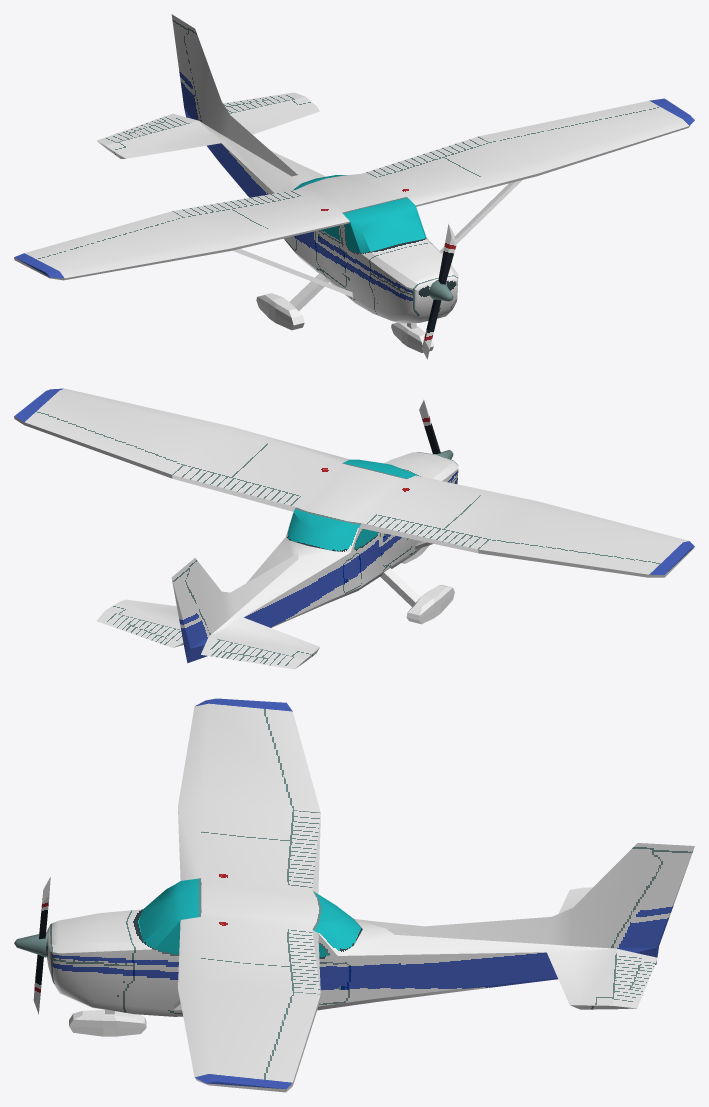
The model's file is cessna172.glb.
3 renders of one model, top to bottom at view 1: azimuth 30°, elevation 25°; view 2: azimuth 150°, elevation 25°; view 3: azimuth 270°, elevation 25°, orthographic. The views are drawn at different scales.
Visible parts, largest first — view 1: Body, Propeller; view 2: Body, Propeller; view 3: Body, Propeller.
Boxes of the visible parts, x1=… form: Body: x1=14, y1=14, x2=694, y2=352; Propeller: x1=422, y1=224, x2=456, y2=359; Body: x1=14, y1=388, x2=694, y2=669; Propeller: x1=419, y1=400, x2=453, y2=459; Body: x1=46, y1=698, x2=694, y2=1092; Propeller: x1=14, y1=877, x2=50, y2=1014.
Bounding box in the file's own units: 11.05 × 2.53 × 8.23.
Materials: 1 (1 with a texture image).
